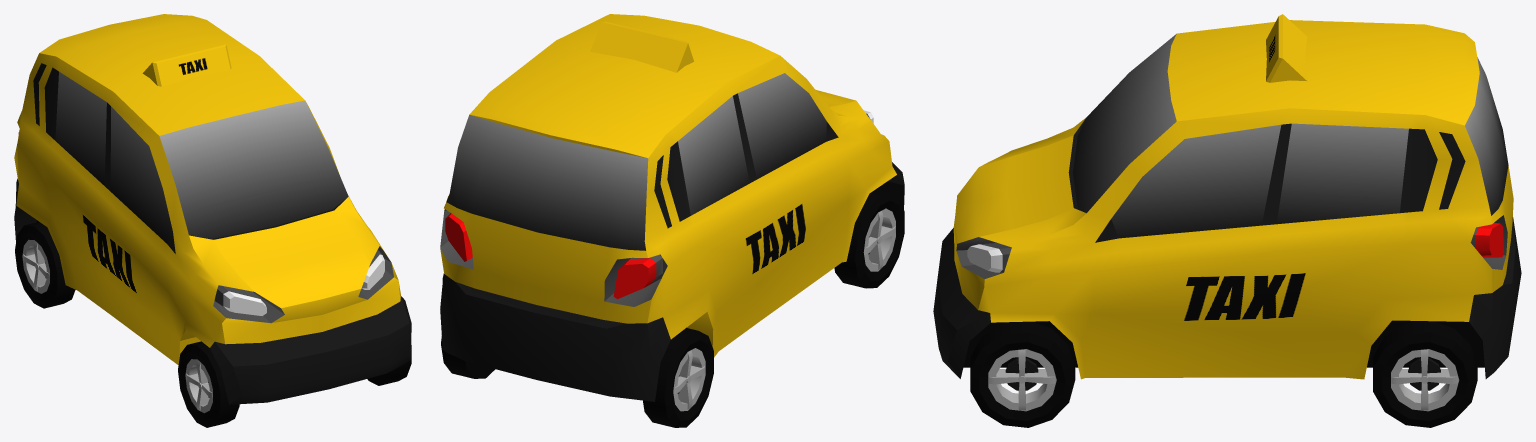
The model's file is taxi 3.fbx.
The picture shows the model from 3 angles, left to right: view 1: azimuth 30°, elevation 25°; view 2: azimuth 150°, elevation 25°; view 3: azimuth 270°, elevation 25°; orthographic projection. The views are drawn at different scales.
Visible parts, largest first — view 1: Plane, Cylinder.002, Cylinder.003, Plane.001, Cylinder; view 2: Plane, Cylinder.003, Cylinder.002, Plane.001, Cylinder.001; view 3: Plane, Cylinder, Cylinder.001, Plane.001.
Boxes of the visible parts, box(x1,y1,x2,y2) form: Plane: box(14, 14, 411, 404); Cylinder.002: box(178, 341, 239, 427); Cylinder.003: box(15, 222, 75, 308); Plane.001: box(142, 44, 231, 86); Cylinder: box(367, 345, 411, 385); Plane: box(440, 14, 904, 401); Cylinder.003: box(643, 328, 713, 427); Cylinder.002: box(834, 188, 904, 288); Plane.001: box(590, 21, 693, 72); Cylinder.001: box(441, 336, 495, 378); Plane: box(933, 20, 1521, 379); Cylinder: box(970, 321, 1075, 427); Cylinder.001: box(1373, 321, 1477, 427); Plane.001: box(1266, 14, 1307, 82).
Bounding box in the file's own units: 55.3 × 72.9 × 116.
1 material, 1 textured.
